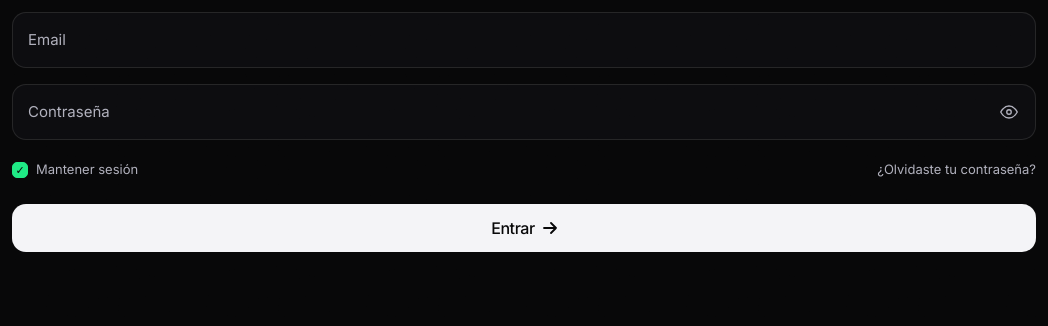
Test: LoginForm › renders error state returned by the action
Type "a@b.com" into the field labelled "Email" at (524, 40), box 12,12 -> 1036,68
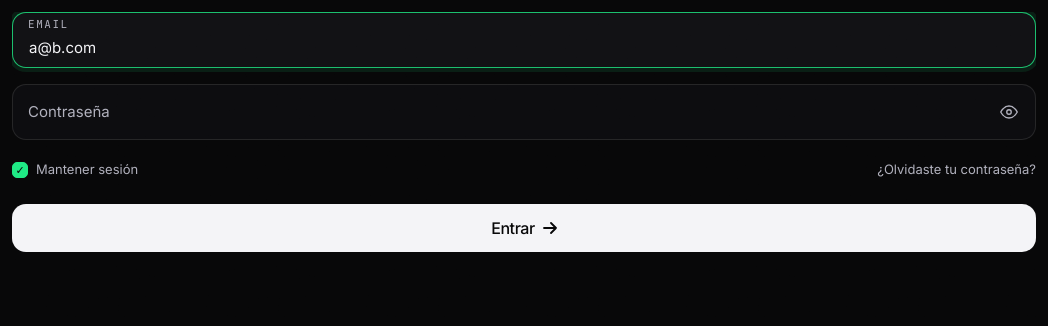
Type "wrong" into the password field labelled "Contraseña" at (524, 112), box 12,84 -> 1036,140
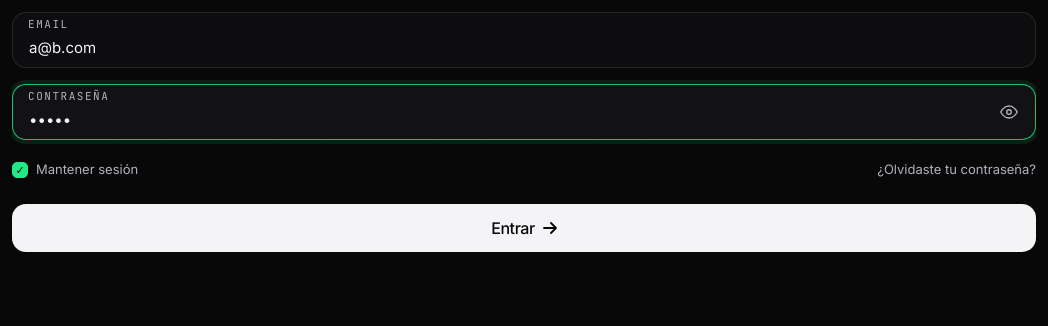
Click the button "Entrar" at (524, 228), box 12,204 -> 1036,252
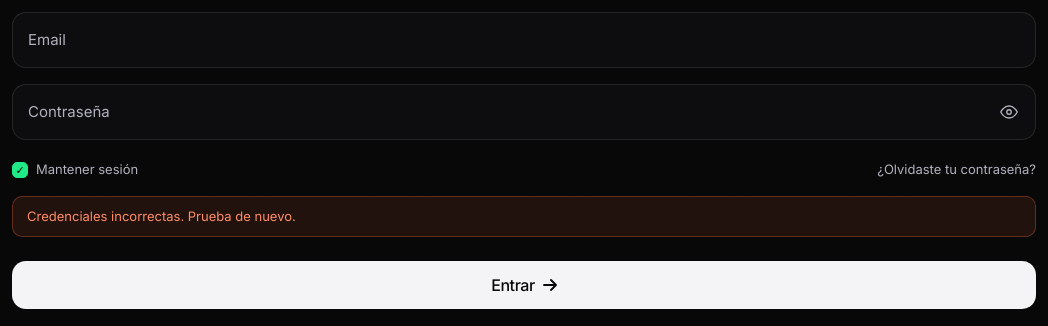
Expected: the message shows "Credenciales incorrectas", 27,208 -> 296,224
